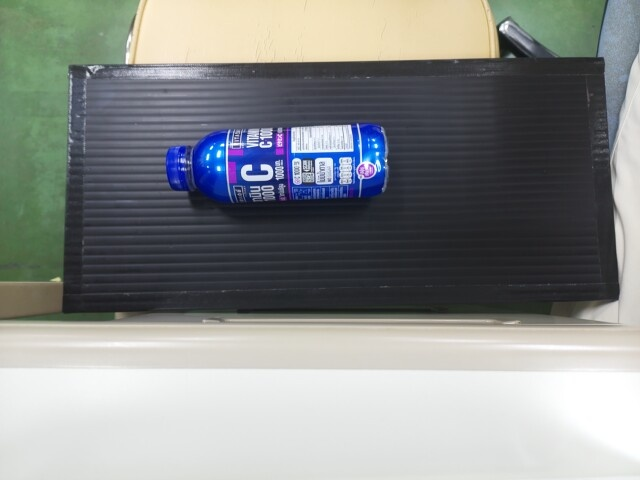plastic_bottle: (166, 129, 389, 205)
